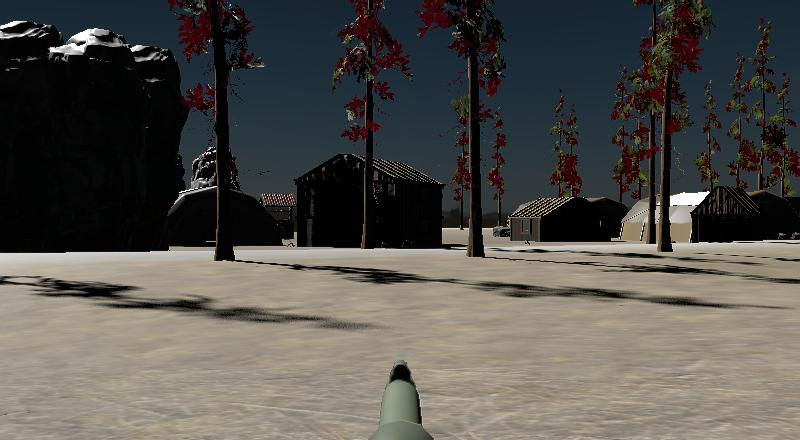House: (294, 153, 444, 249), (510, 195, 626, 242), (690, 185, 762, 241)
